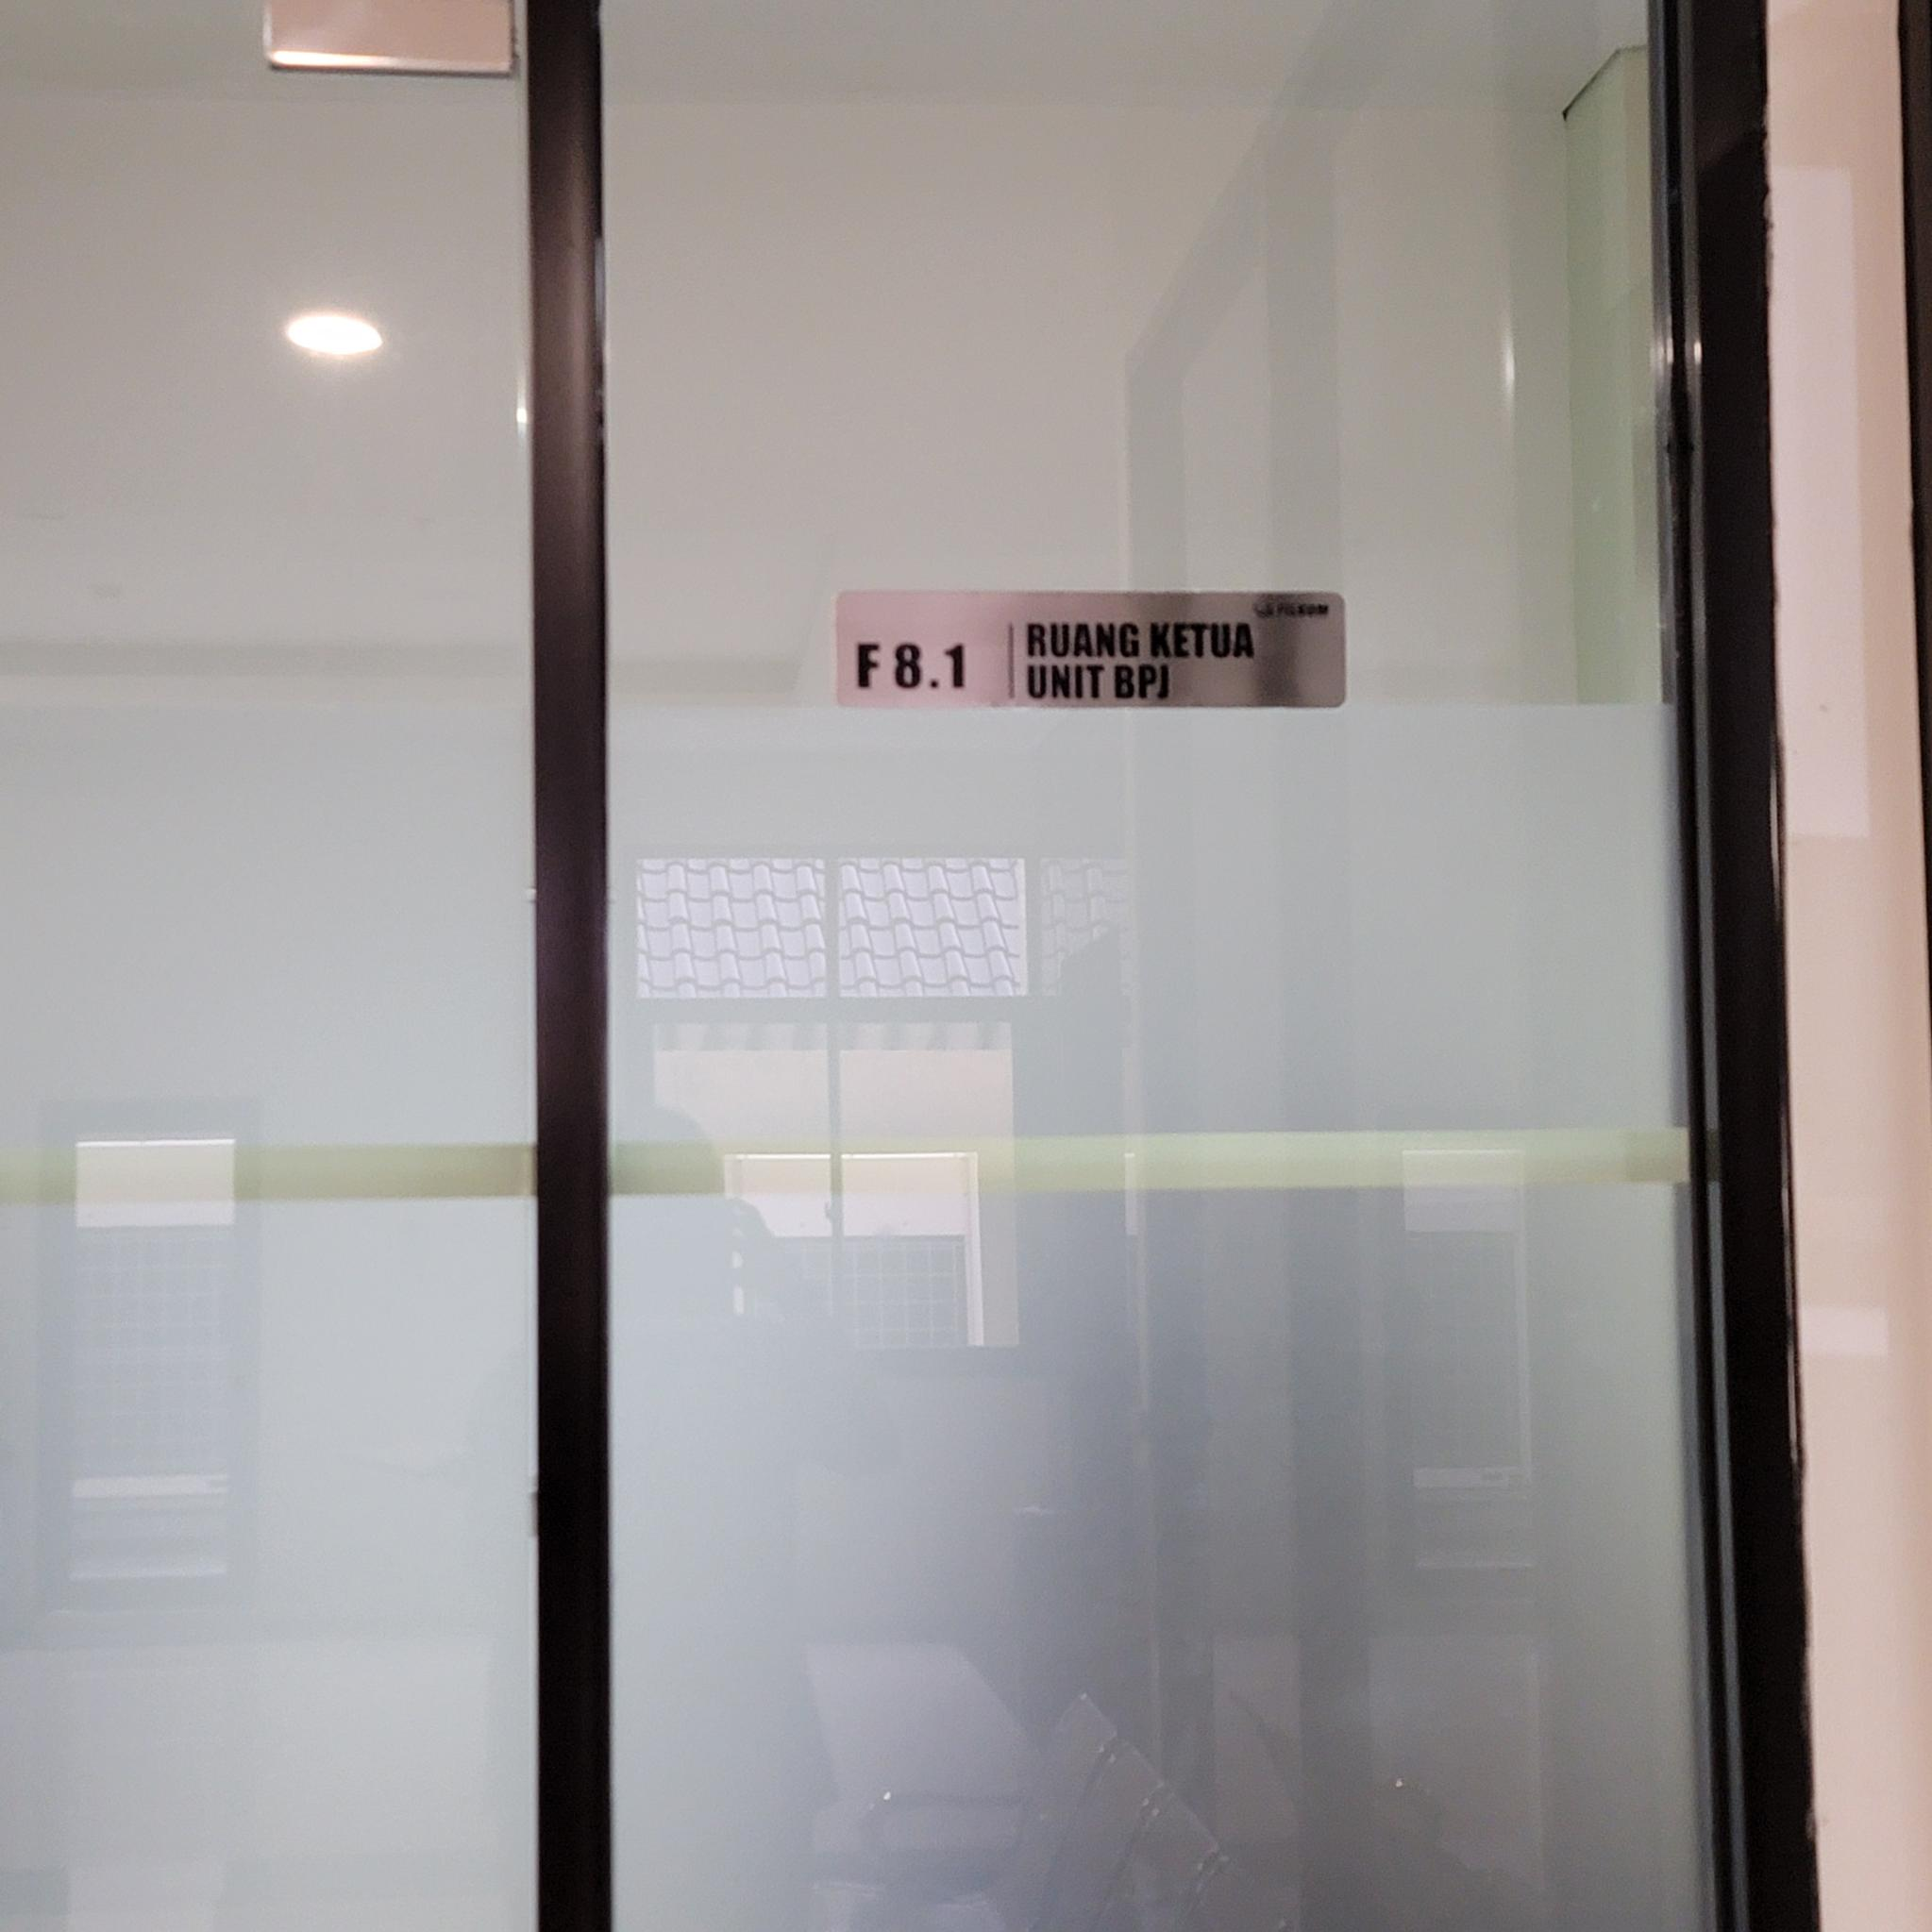plate: (830, 589, 1355, 711)
